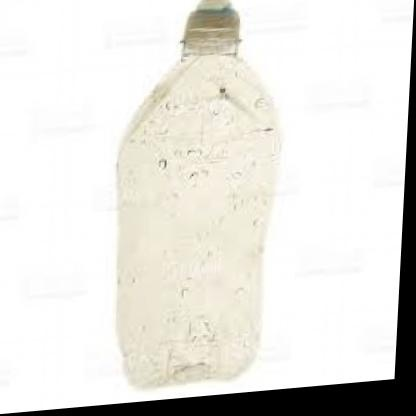trash: (117, 0, 277, 386)
